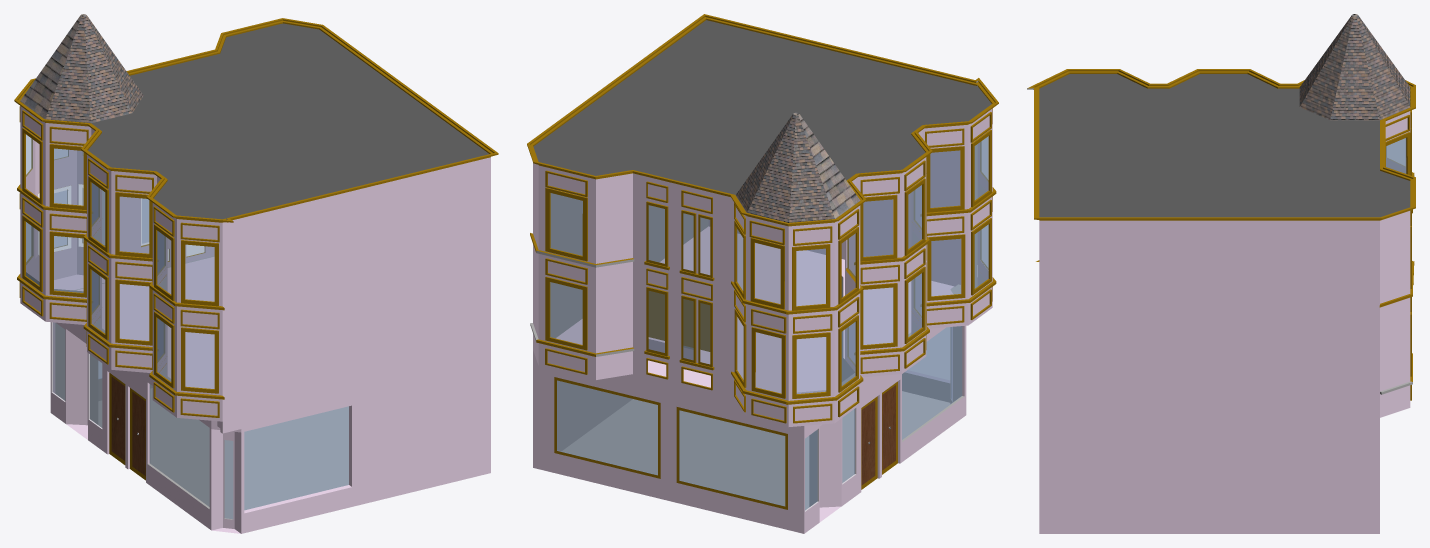
File: leal-building-1920.glb
The picture shows the model from 3 angles, left to right: view 1: azimuth 30°, elevation 25°; view 2: azimuth 150°, elevation 25°; view 3: azimuth 270°, elevation 25°; orthographic projection.
Parts seen in each view (by area): view 1: Leal Building 1920, Cupola, Roofline; view 2: Leal Building 1920, Cupola, Roofline; view 3: Leal Building 1920, Cupola, Roofline.
Part boxes in pixels (x1,y1,x2,y2): Leal Building 1920: (14, 18, 497, 533); Cupola: (20, 14, 143, 123); Roofline: (14, 19, 498, 222); Leal Building 1920: (527, 14, 998, 533); Cupola: (736, 112, 860, 222); Roofline: (527, 15, 998, 226); Leal Building 1920: (1027, 69, 1415, 533); Cupola: (1299, 14, 1410, 120); Roofline: (1033, 70, 1415, 220).
Bounding box in the file's own units: 5.9 × 7.35 × 6.5.
Materials: 12 (3 with a texture image).
